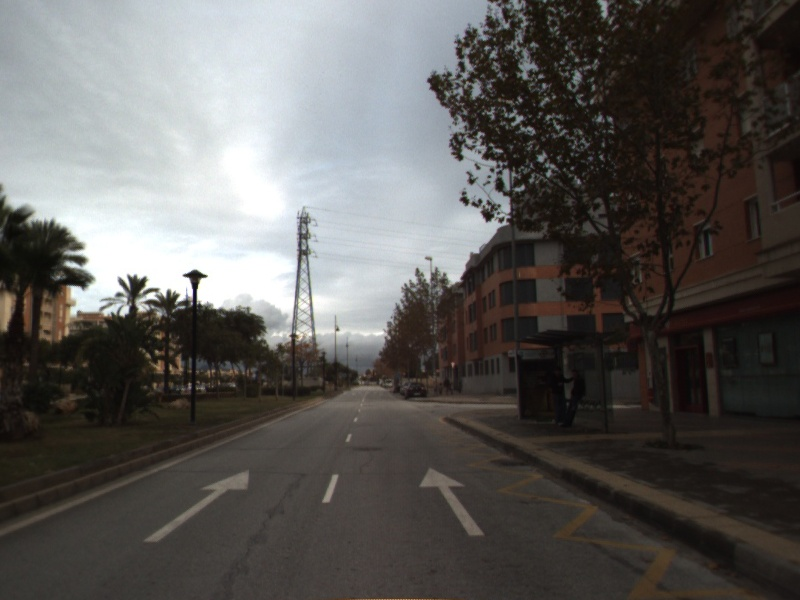STRAIGHT: (142, 467, 251, 544), (417, 465, 486, 537)
